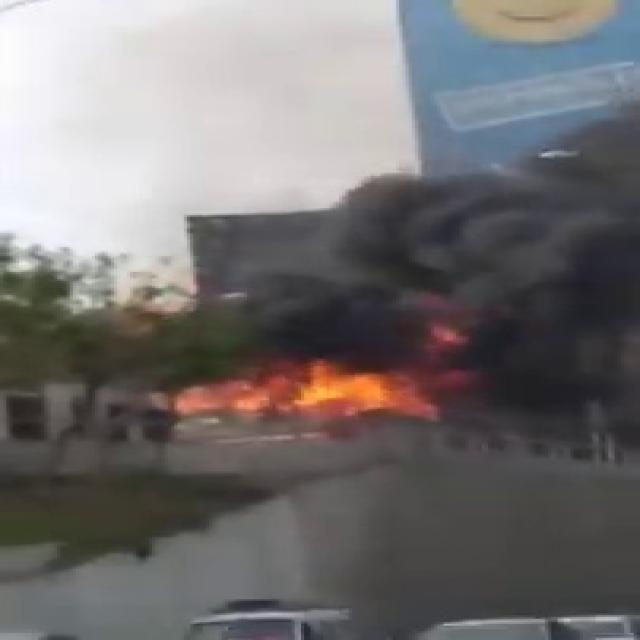Fire: (174, 299, 456, 425)
Smoke: (212, 160, 640, 382)
